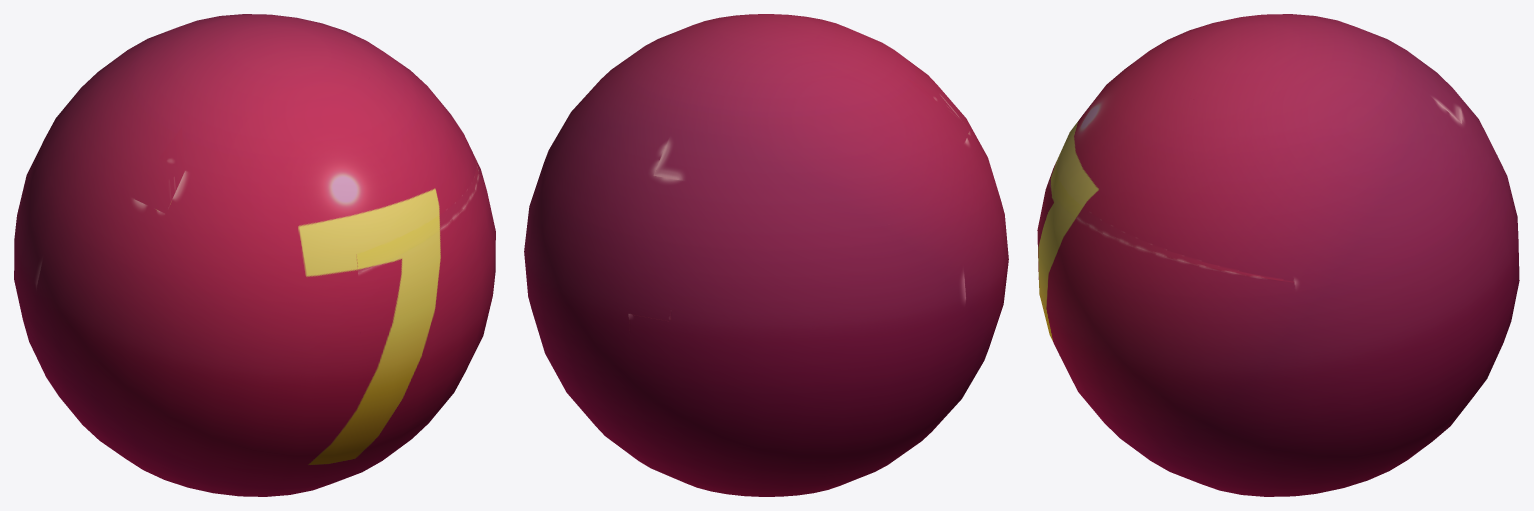
File: Enemy 7.fbx
The picture shows the model from 3 angles, left to right: view 1: azimuth 30°, elevation 25°; view 2: azimuth 150°, elevation 25°; view 3: azimuth 270°, elevation 25°; orthographic projection.
Parts seen in each view (by area): view 1: Body 1.006; view 2: Body 1.006; view 3: Body 1.006.
Boxes of the visible parts, x1,y1,x2,y2 form: Body 1.006: (14,14,495,496); Body 1.006: (524,14,1008,496); Body 1.006: (1037,14,1519,496).
Size of the model in its own units: 472 by 474 by 472.
Materials: 1 (1 with a texture image).
